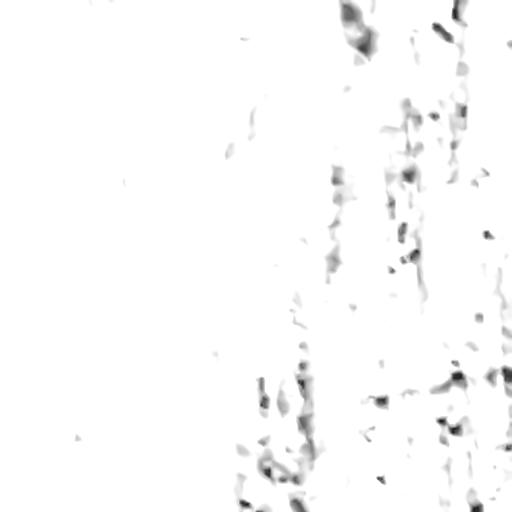egg: (433, 22, 453, 42), (452, 0, 468, 24), (451, 371, 464, 381)
